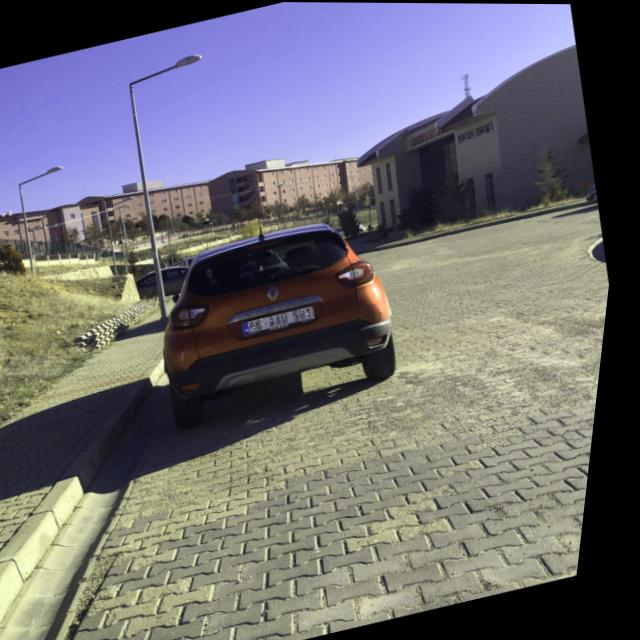license_plate: (247, 305, 323, 334)
